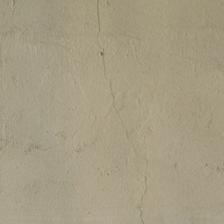Crack: (24, 34, 135, 109), (0, 0, 56, 123)
